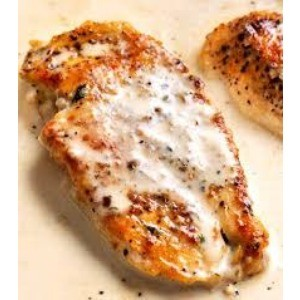chicken breast_brain food: (61, 116, 213, 228), (215, 29, 268, 88)
